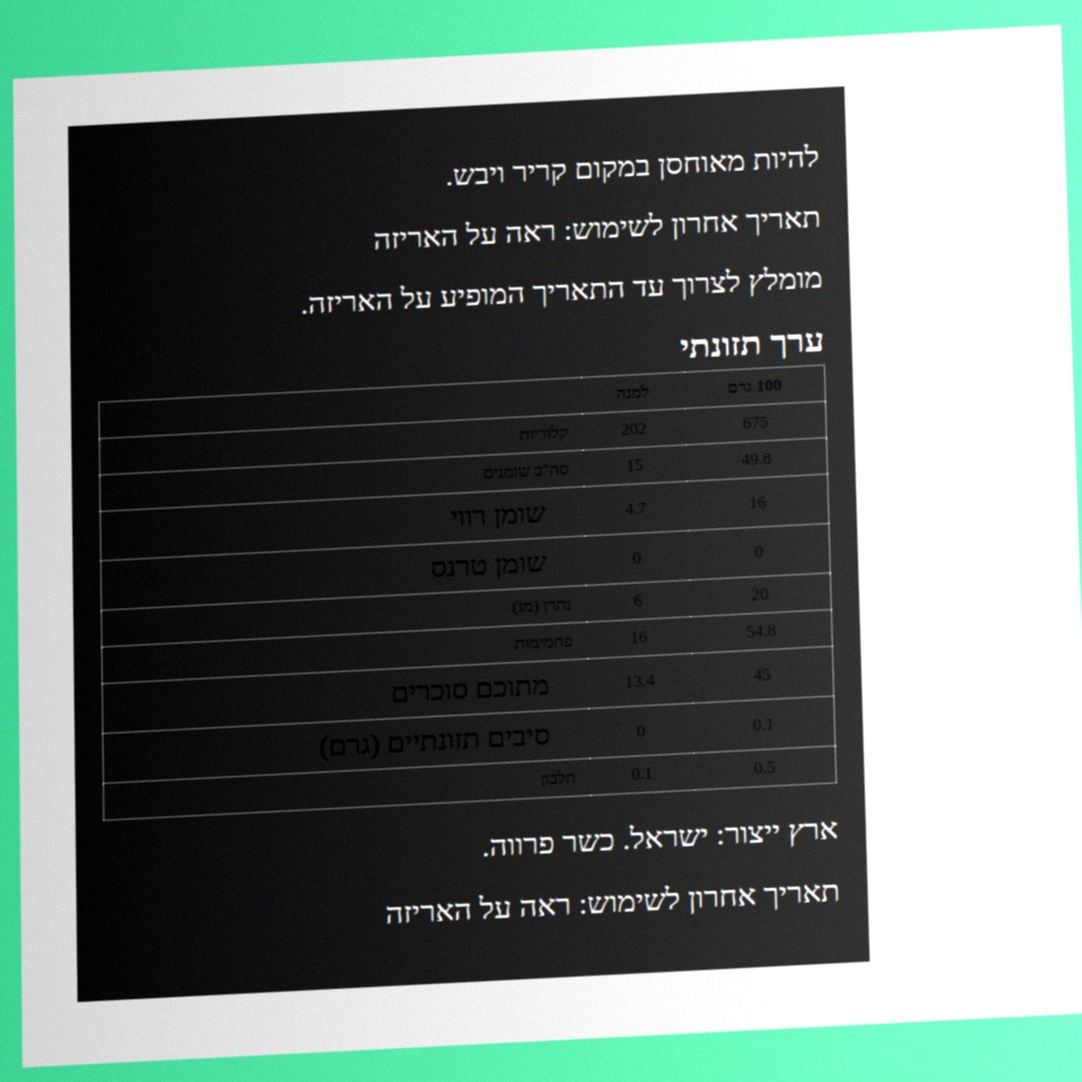carbs: (744, 620, 778, 642)
energy: (740, 411, 771, 434)
fat: (739, 448, 774, 470)
protein: (752, 756, 778, 779)
